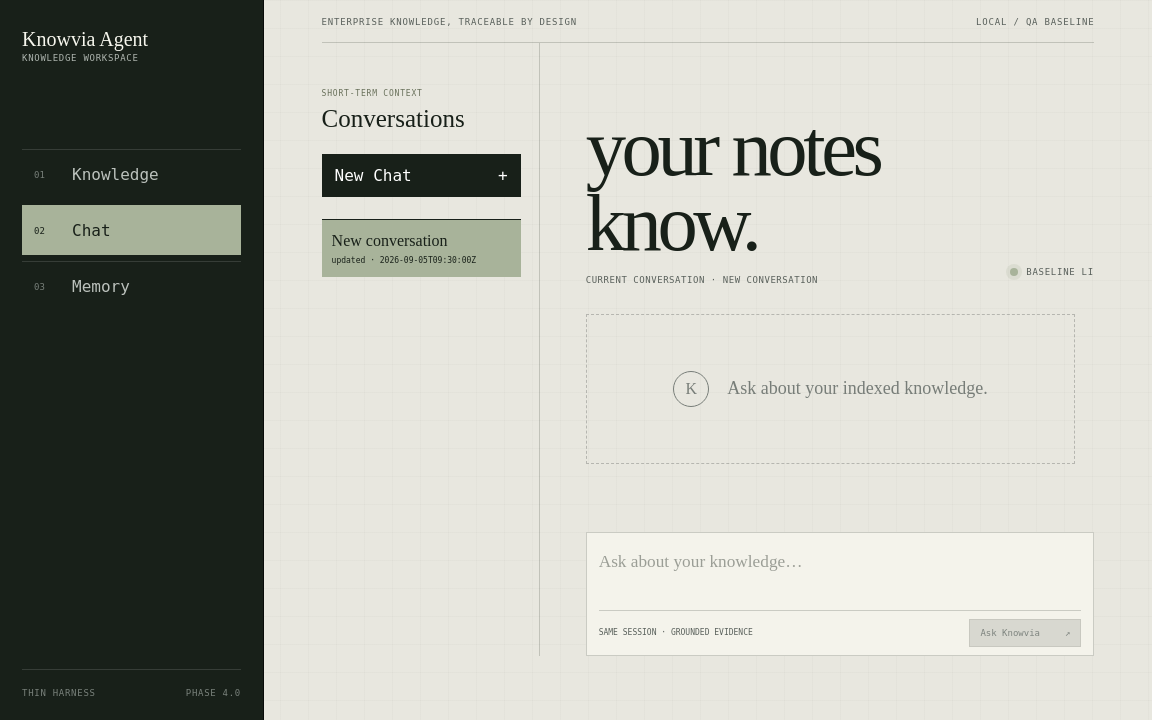
it: Knowvia frontend harness › renders citations only from backend response metadata
(page scrolled)
Expected: the text "Ask about your indexed knowledge." is shown, [727,378,988,400]
Type "Summarize the attention note." into the text box named "Question".
click(840, 577); type("Summarize the attention note.")  # box [599,543,1081,611]
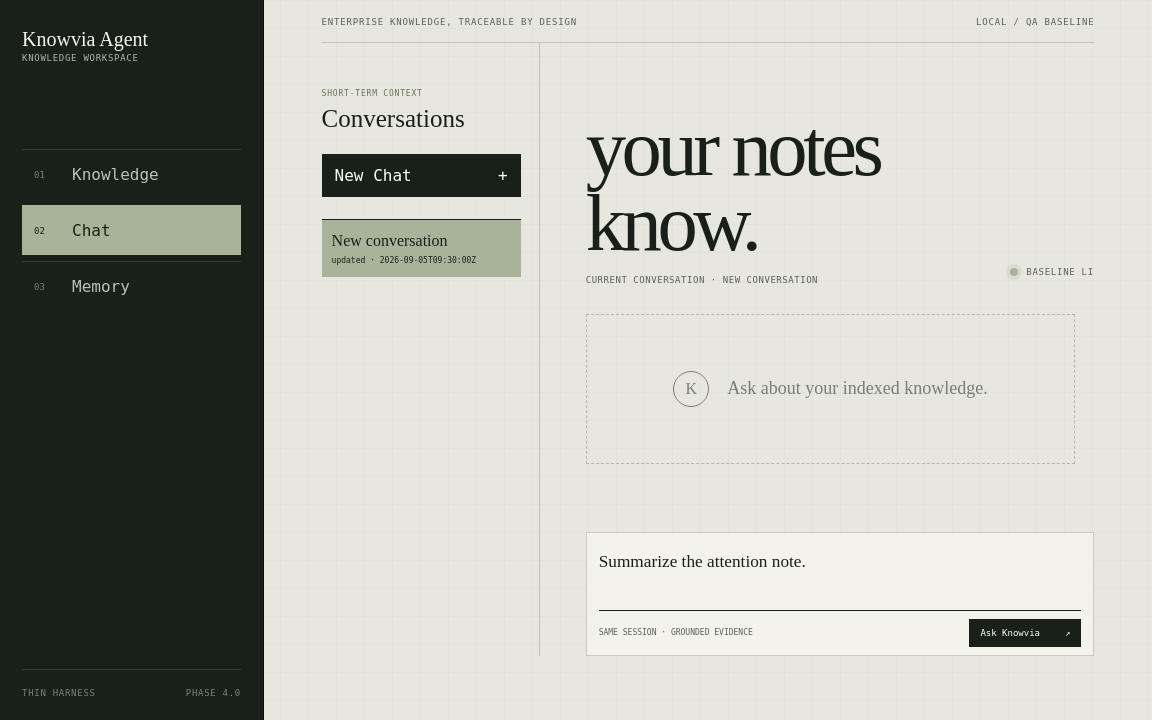
Click the button "Ask Knowvia ↗".
click(1025, 633)  # box [969,619,1081,647]
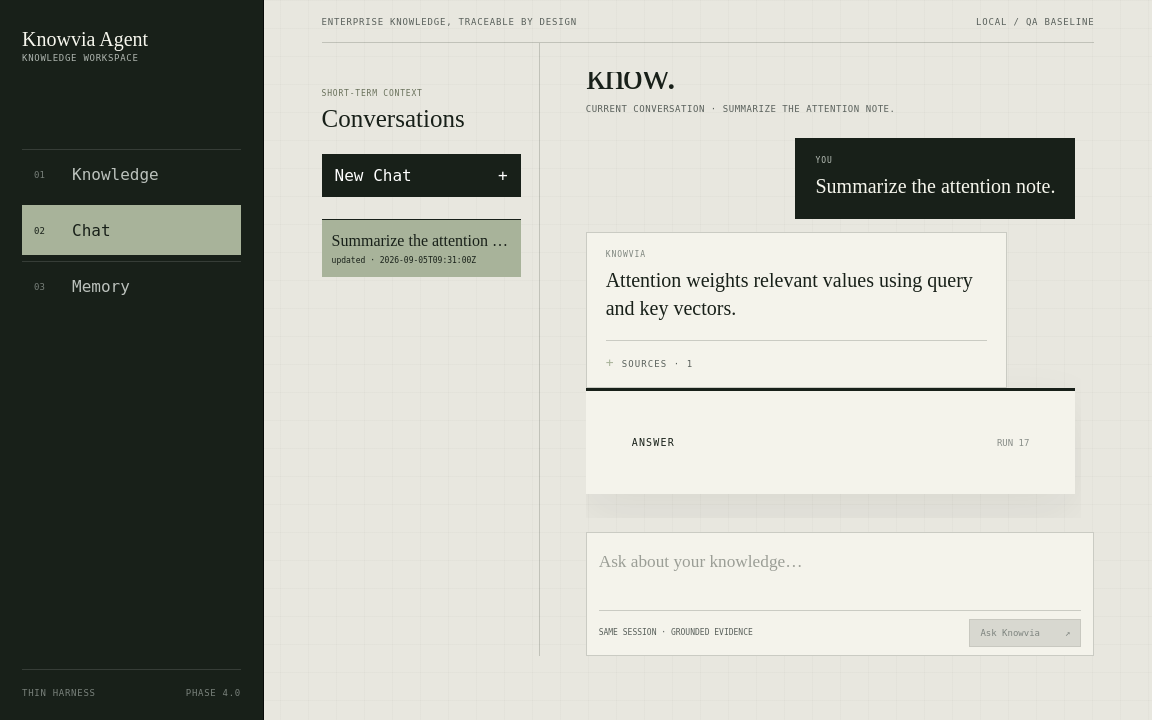
Now the heading "Sources · 1" is shown
Click the heading "Sources · 1".
click(657, 364)  # box [622,359,693,369]
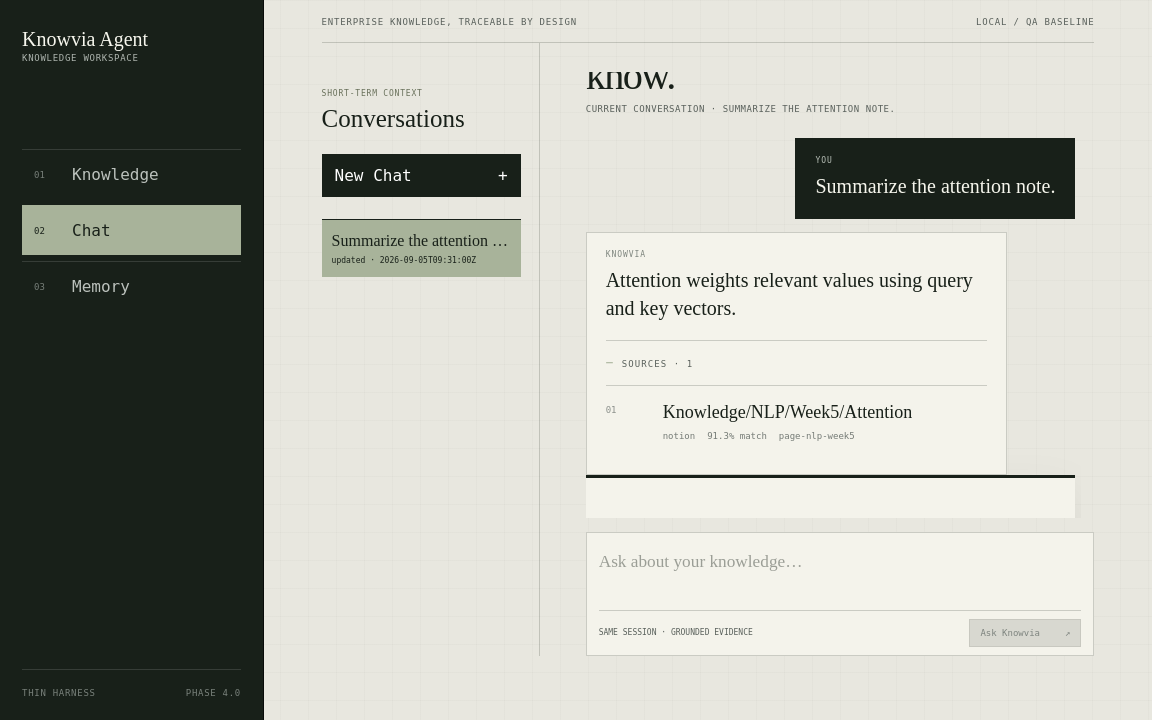
Now the text "Knowledge/NLP/Week5/Attention" is shown, box [663,402,912,422]
Now the text "91.3% match" is shown, box [707,431,767,441]
Now the text "page-nlp-week5" is shown, box [779,431,855,441]
